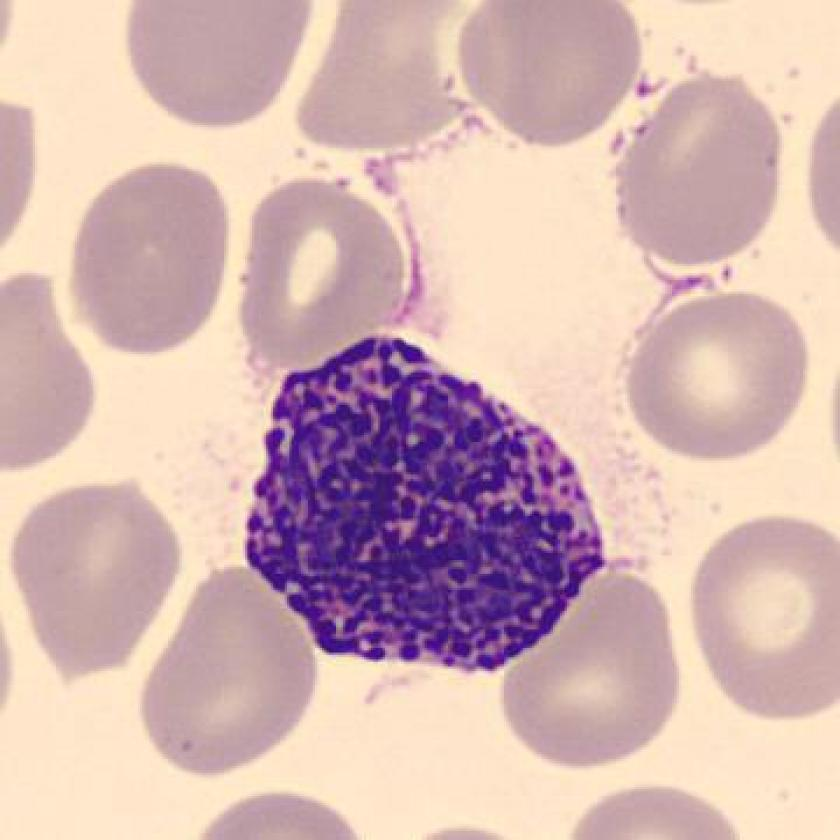basophil: (237, 332, 598, 684)
